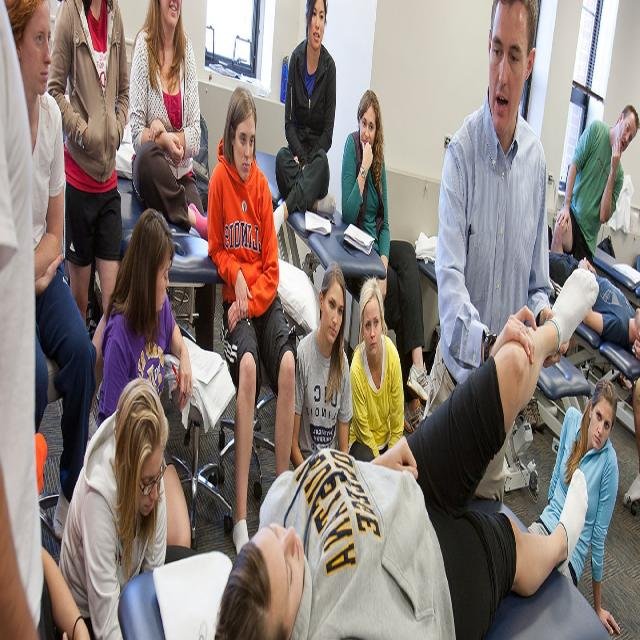body: (208, 260, 601, 639), (421, 0, 571, 507), (2, 0, 100, 558), (202, 77, 300, 577), (44, 0, 130, 458), (97, 207, 194, 550), (341, 88, 432, 434), (56, 375, 169, 640), (2, 0, 48, 640), (526, 376, 622, 637), (128, 0, 208, 242), (272, 0, 337, 238), (549, 100, 640, 268), (347, 273, 415, 464), (292, 262, 354, 470), (548, 248, 640, 351), (47, 562, 93, 637), (621, 367, 640, 523)
